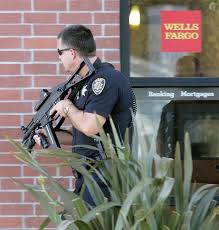rifle: (19, 59, 97, 151)
